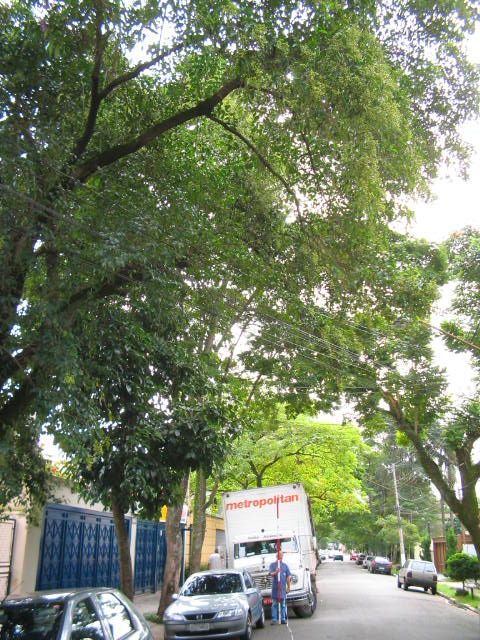stick: (272, 493, 284, 626)
